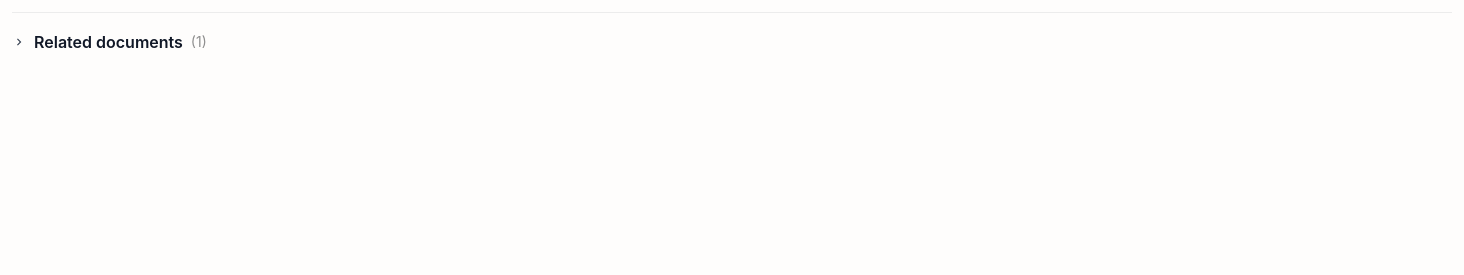
Test case: CitationList — answer-order numbering (Task 2) › shows "Searched, not cited" under an uncited entry instead of a "Cited for" line
Click the button "Related documents (1)" at (108, 42), box x1=12 y1=25 x2=1452 y2=59
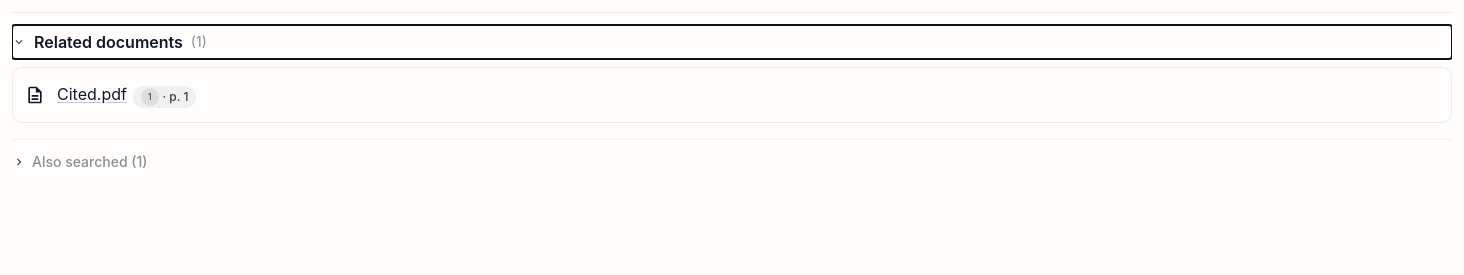
Click the button "Also searched (1)" at (84, 162), box x1=12 y1=148 x2=1452 y2=176
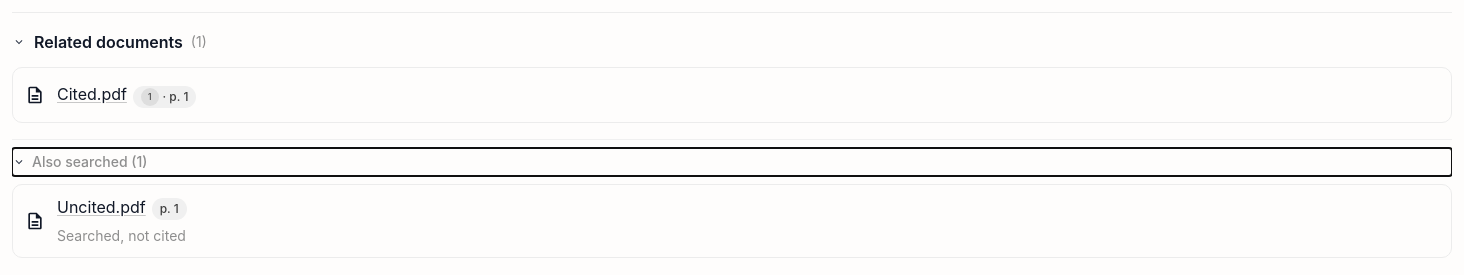
Expected: the text "Searched, not cited" is shown, x1=57 y1=227 x2=186 y2=244
